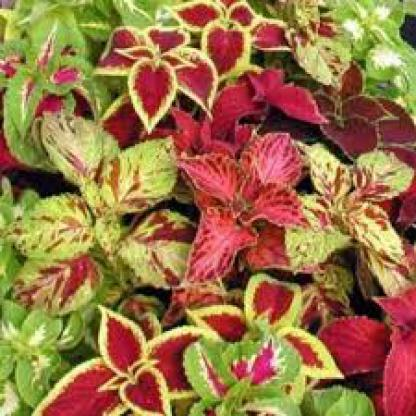Bunga Coleus: (20, 19, 402, 406)
